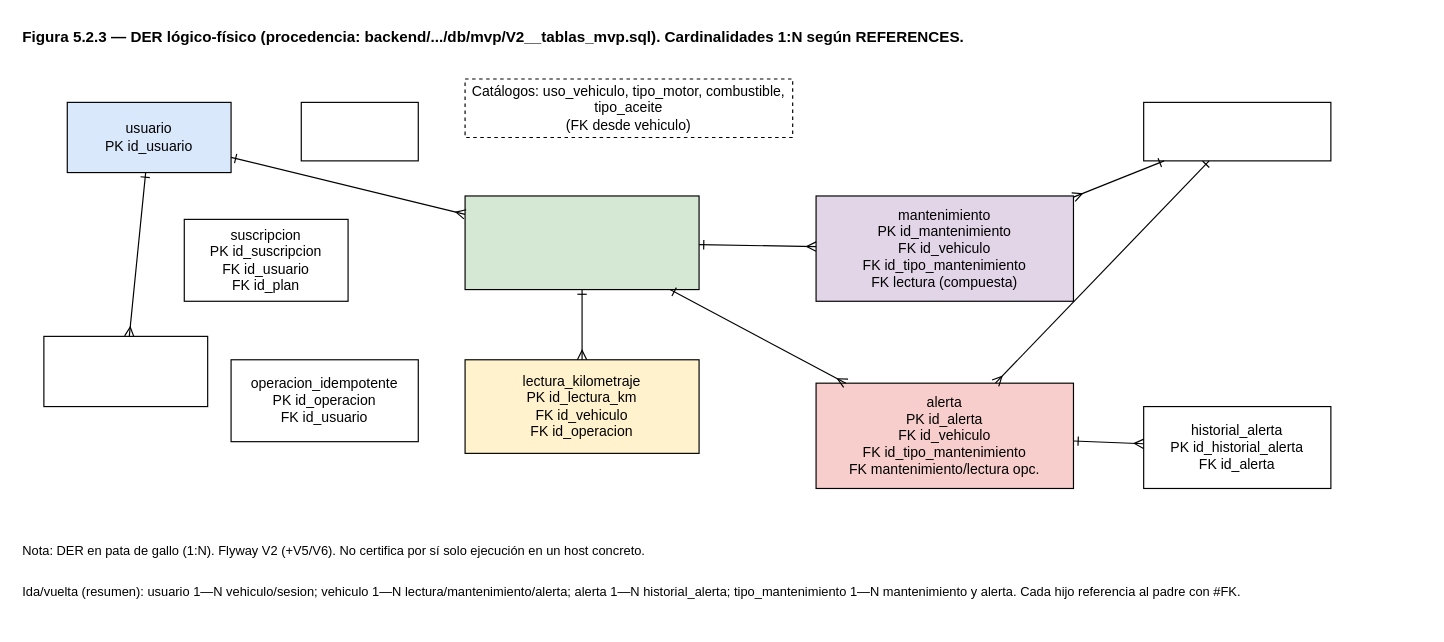
This 1444x642 diagram has some shape labels left out. The centre of each missing label's shape, as x and y in pixels:
"plan PK id_plan" goes at point 359,131.
"sesion PK id_sesion FK id_usuario" goes at point 125,371.
"tipo_mantenimiento PK id_tipo_mantenimiento" goes at point 1237,131.
"vehiculo PK id_vehiculo FK id_usuario FK uso/motor/combustible/aceite" goes at point 581,242.
